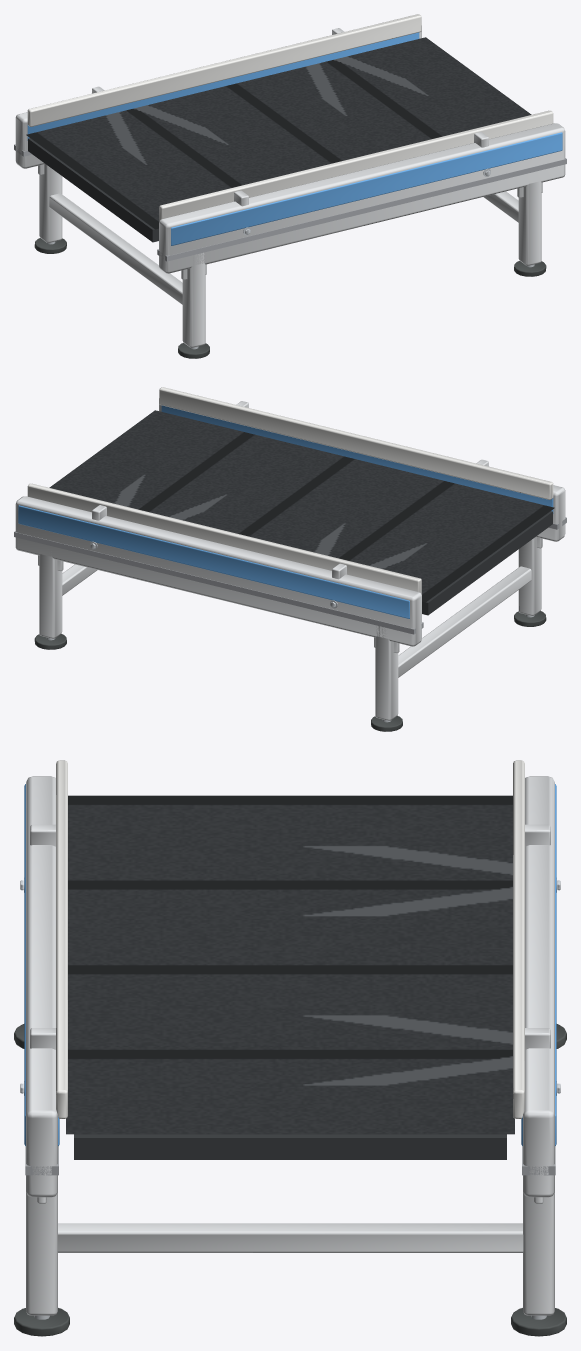
The model's file is cinta_recta_mk2.glb.
3 views of the same model, one above another, from view 1: azimuth 30°, elevation 25°; view 2: azimuth 150°, elevation 25°; view 3: azimuth 270°, elevation 25° (orthographic). The views are drawn at different scales.
Parts seen in each view (by area): view 1: banda, bastidor-1, guia1, franja-1, guia-1, travesano-0.42, franja1, bastidor-1_ranura, lecho, pata-1-0.42, pata-10.42, pata1-0.42 (+2 smaller); view 2: banda, bastidor1, guia-1, franja1, guia1, travesano-0.42, franja-1, bastidor1_ranura, lecho, pata1-0.42, pata10.42, pata-1-0.42 (+2 smaller); view 3: banda, travesano0.42, bastidor-1, bastidor1, lecho, guia-1, guia1, pata-10.42, pata10.42, pata-10.42_pie, pata10.42_pie, franja-1 (+1 smaller).
Boxes of the visible parts, <box> form: banda: <box>26,37,531,229</box>; bastidor-1: <box>159,123,565,273</box>; guia1: <box>27,14,421,126</box>; franja-1: <box>171,132,562,245</box>; guia-1: <box>159,110,553,220</box>; travesano-0.42: <box>49,193,182,304</box>; franja1: <box>27,32,419,140</box>; bastidor-1_ranura: <box>157,158,566,261</box>; lecho: <box>28,138,158,242</box>; pata-1-0.42: <box>182,252,205,347</box>; pata-10.42: <box>518,181,541,265</box>; pata1-0.42: <box>39,164,62,242</box>; banda: <box>49,410,554,602</box>; bastidor1: <box>15,496,421,646</box>; guia-1: <box>159,387,553,499</box>; franja1: <box>18,505,409,618</box>; guia1: <box>27,483,421,593</box>; travesano-0.42: <box>398,566,531,677</box>; franja-1: <box>161,405,553,513</box>; bastidor1_ranura: <box>14,531,423,634</box>; lecho: <box>422,511,552,615</box>; pata1-0.42: <box>375,626,398,720</box>; pata10.42: <box>39,554,62,638</box>; pata-1-0.42: <box>518,537,541,615</box>; banda: <box>66,795,514,1134</box>; travesano0.42: <box>57,1223,523,1252</box>; bastidor-1: <box>26,776,57,1197</box>; bastidor1: <box>523,776,554,1197</box>; lecho: <box>74,1134,506,1159</box>; guia-1: <box>56,760,67,1118</box>; guia1: <box>513,760,524,1118</box>; pata-10.42: <box>26,1192,57,1315</box>; pata10.42: <box>523,1192,554,1315</box>; pata-10.42_pie: <box>14,1308,69,1336</box>; pata10.42_pie: <box>511,1308,566,1336</box>; franja-1: <box>24,784,59,1145</box>.
Size of the model in its own units: 1 by 0.355 by 0.69.
9 materials, 1 textured.
